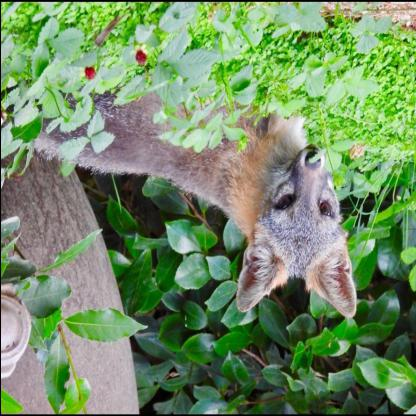zorro: (0, 75, 359, 318)
